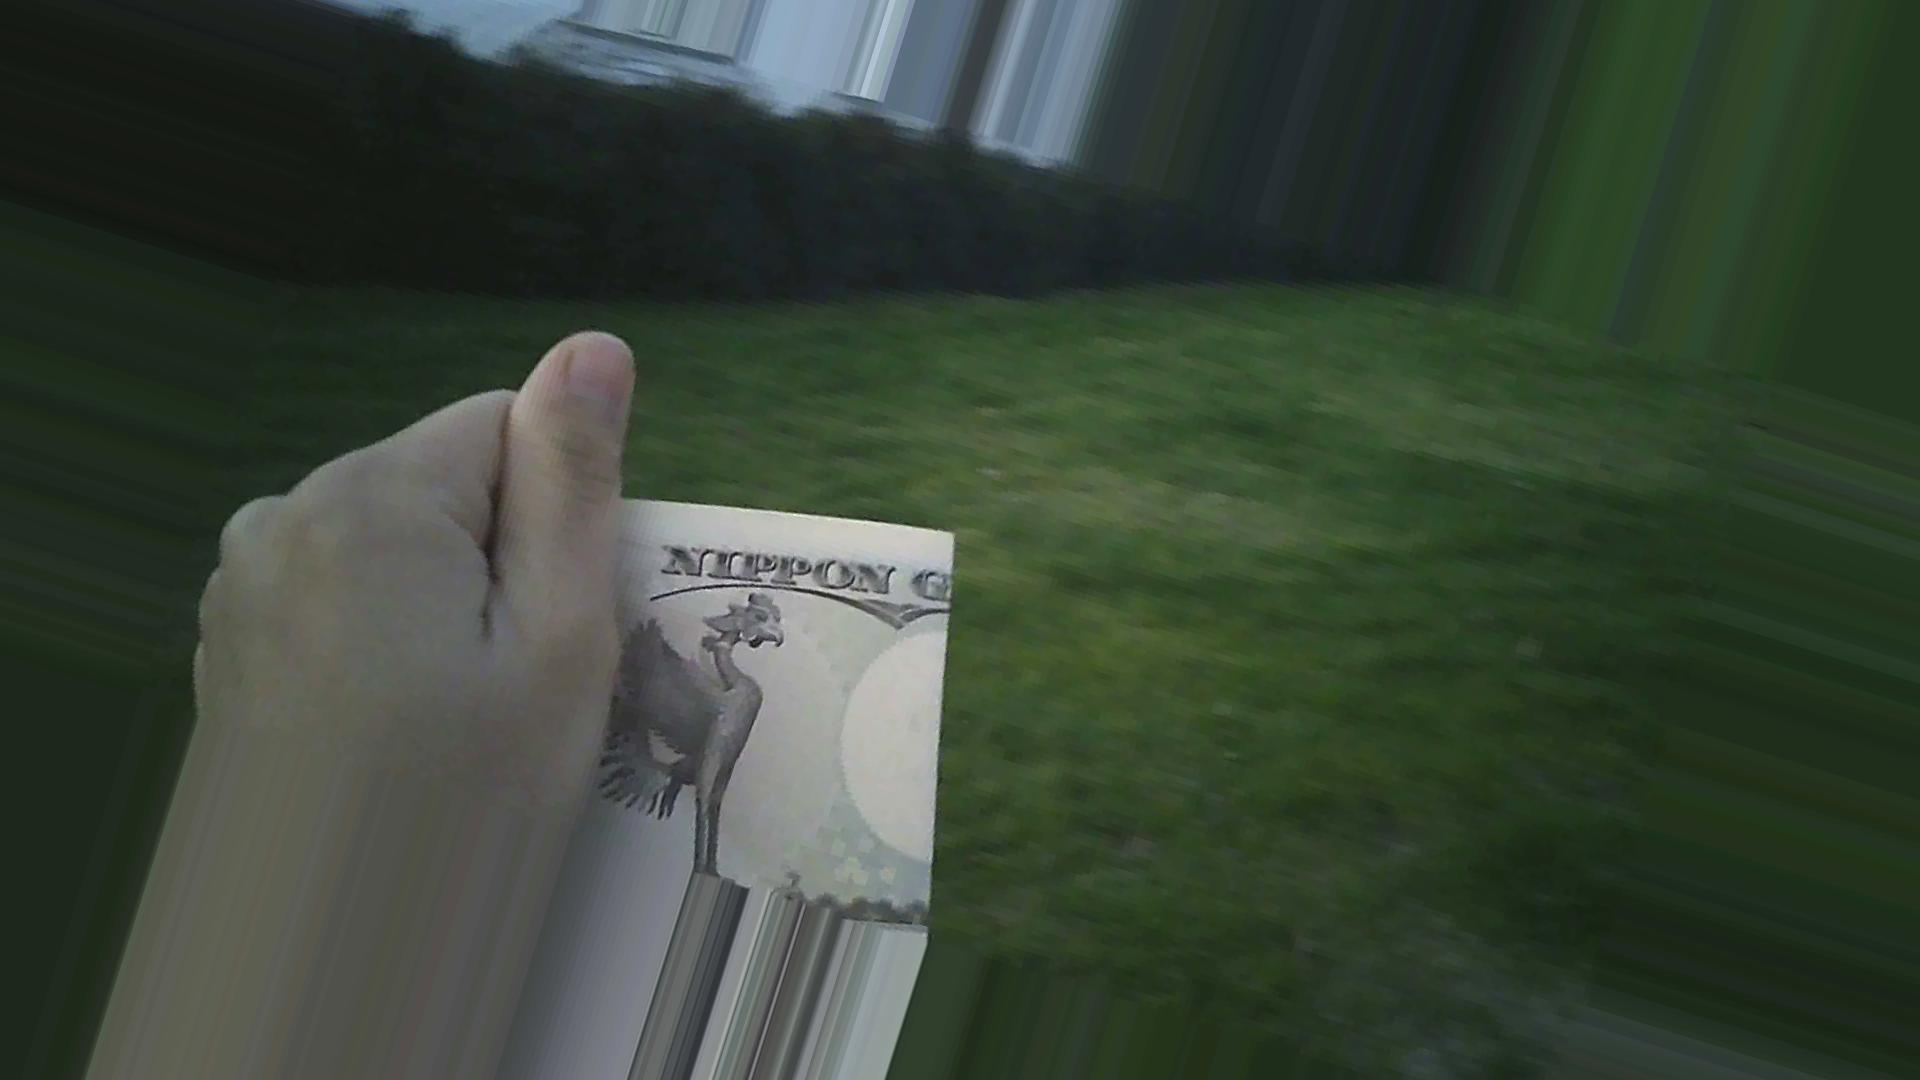10,000 Yen: (483, 456, 963, 948)
